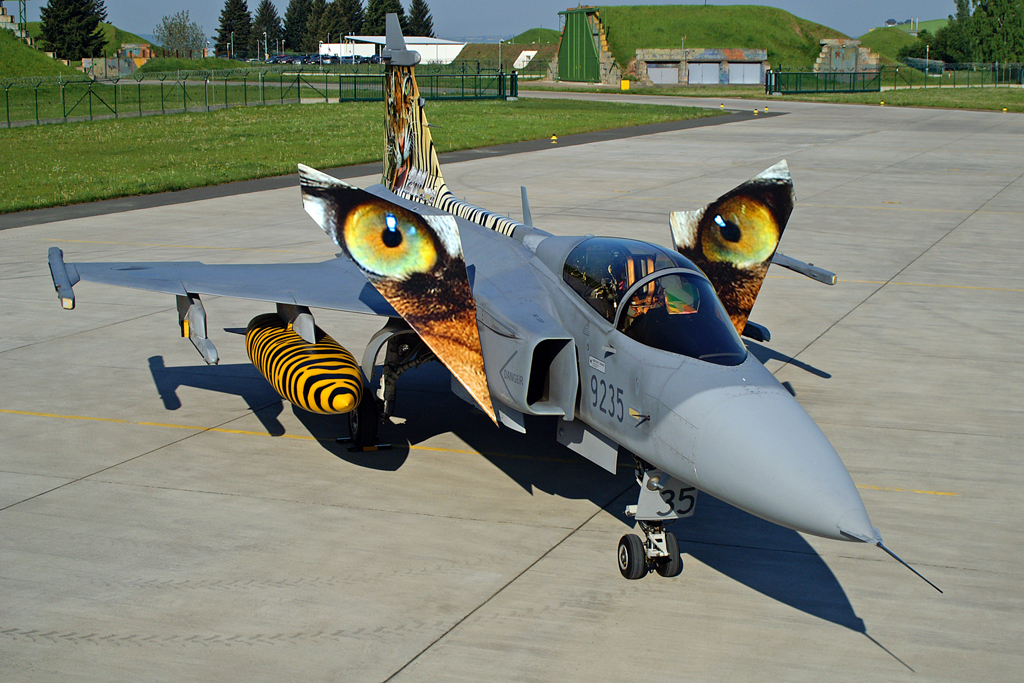JAS39: (47, 12, 946, 595)
